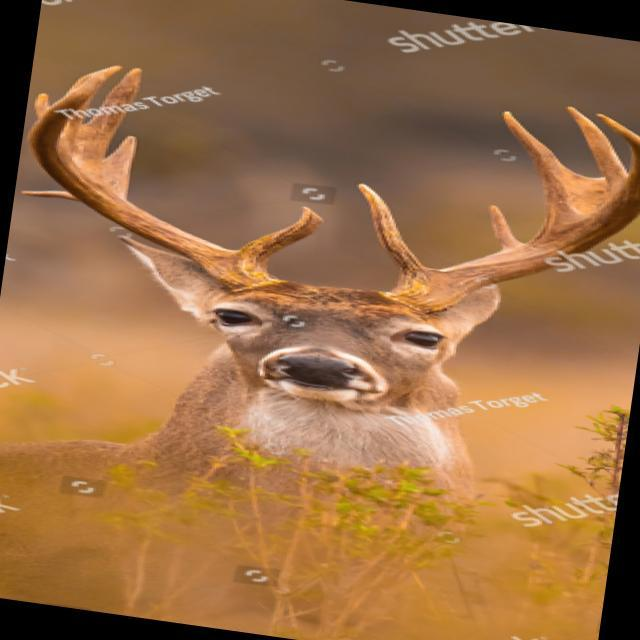L-F: (380, 110, 640, 315)
L-G1: (352, 181, 441, 275)
L-G2: (487, 204, 524, 252)
L-G3: (498, 106, 580, 231)
L-G4: (565, 103, 628, 208)
R-F: (22, 65, 285, 294)
R-G1: (232, 205, 325, 266)
R-G2: (103, 133, 138, 202)
R-G3: (74, 64, 147, 184)
